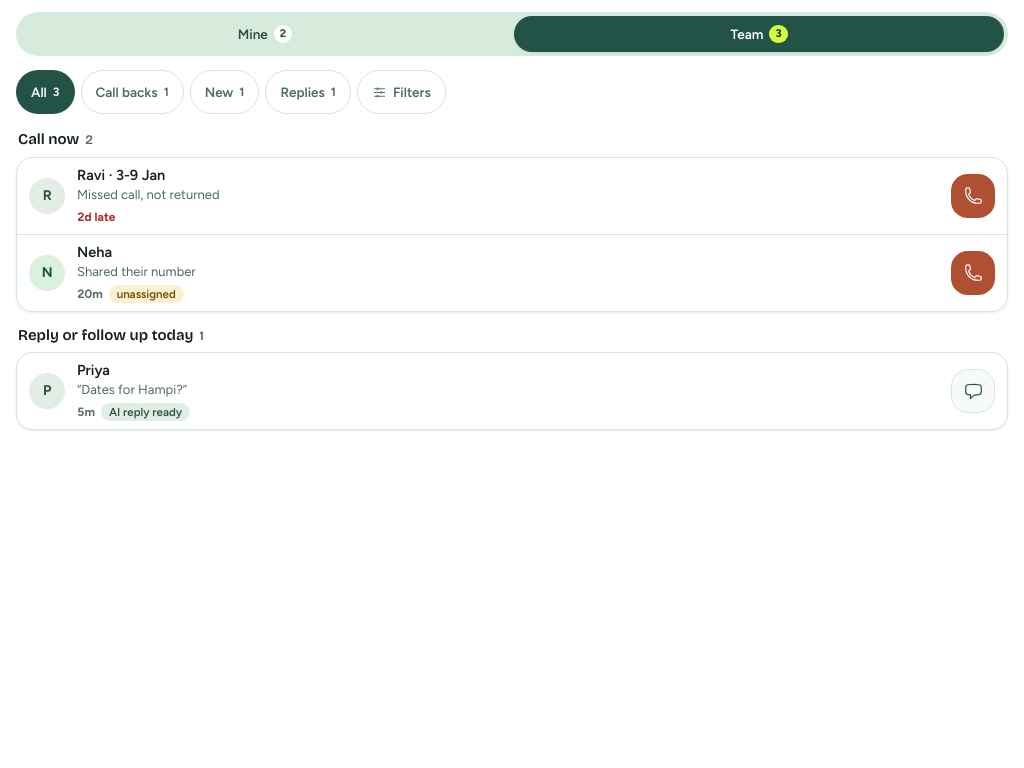
Scenario: Phone My day › filters by chip and opens the rest of the kinds from Filters
The image size is (1024, 768).
Expected: the text "Neha" is shown, [77,242,112,260]
Click the button "Replies 1". click: (308, 92)
box: [265,70,351,114]
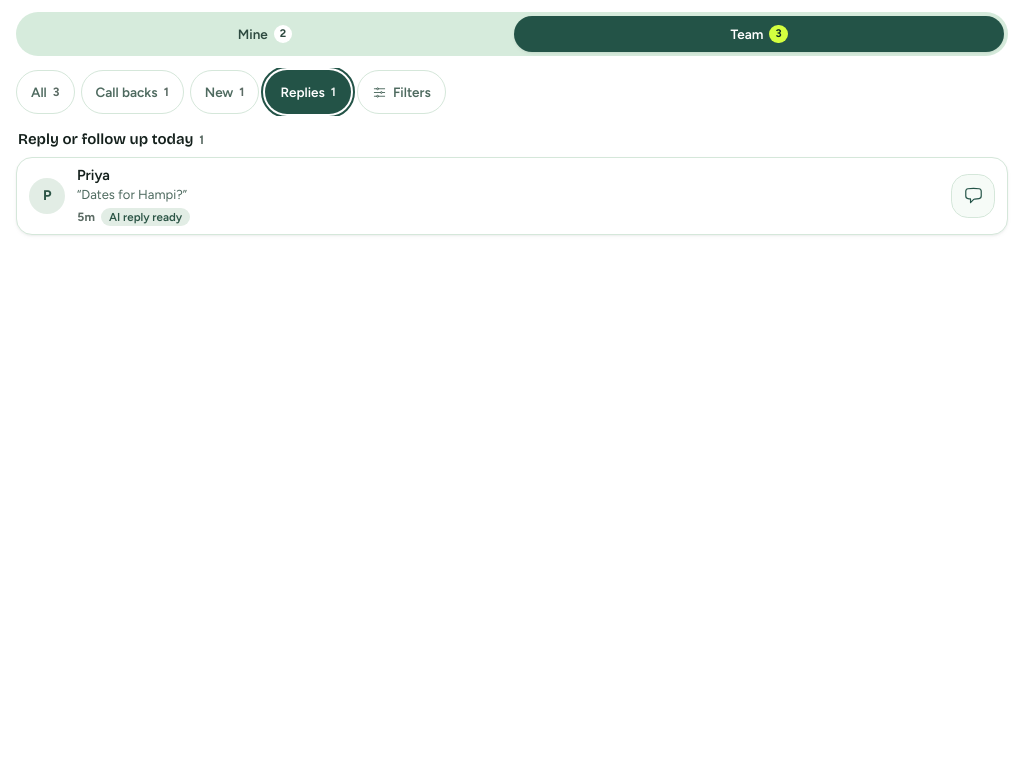
Expected: the text "Priya" is shown, [77,166,110,184]
Result: the link "Neha" is gone
Click the button "Filters". click: (401, 92)
box: [357,70,446,114]
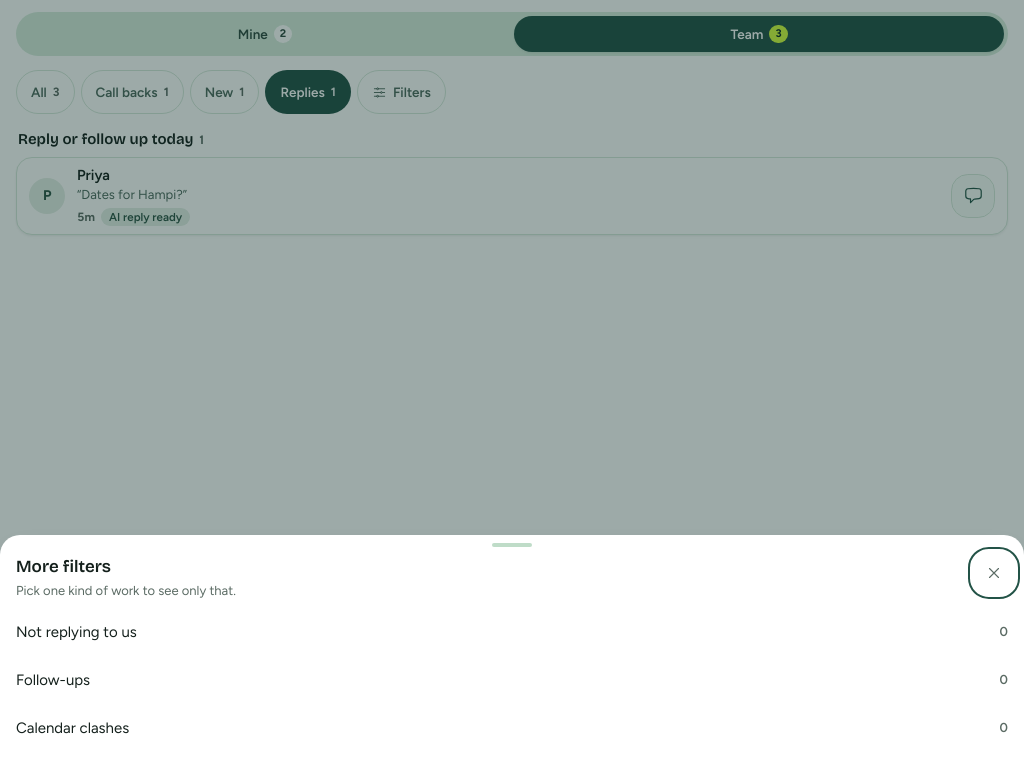
Result: the text "Not replying to us" is shown at [16,621,137,643]
